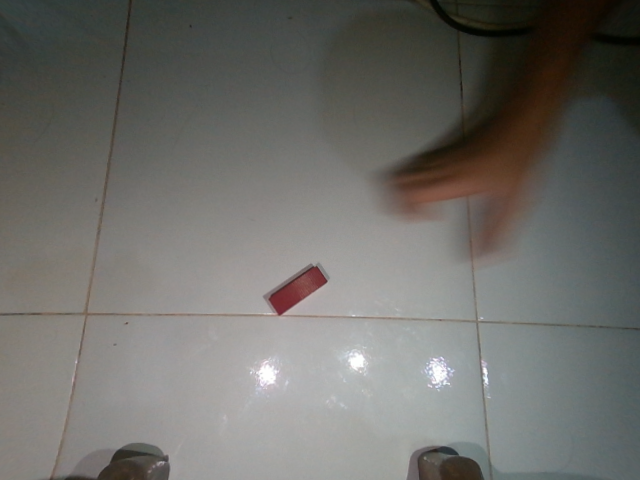Balok-Merah-Marun: (266, 261, 331, 319)
